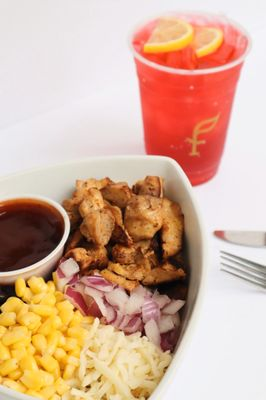burger: (219, 250, 266, 290)
pizza: (127, 11, 253, 188)
sushi: (4, 154, 208, 400), (0, 194, 71, 285)
